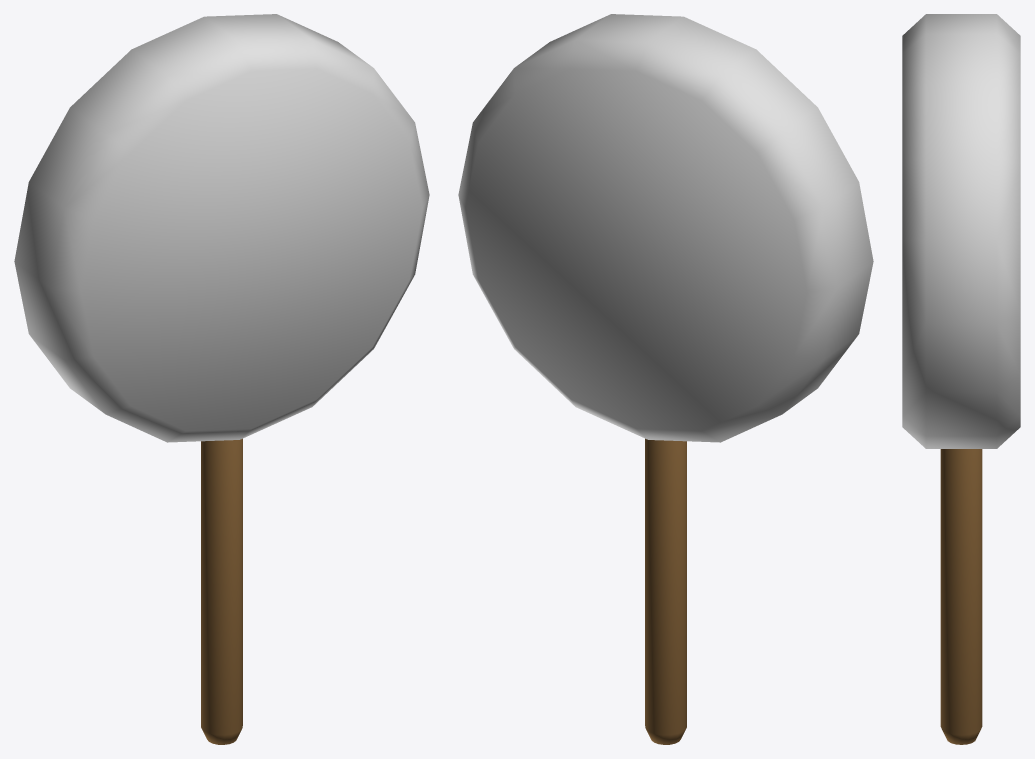
The model's file is Candy2.glb.
The picture shows the model from 3 angles, left to right: view 1: azimuth 30°, elevation 25°; view 2: azimuth 150°, elevation 25°; view 3: azimuth 270°, elevation 25°; orthographic projection.
Visible parts, largest first — view 1: Candy2; view 2: Candy2; view 3: Candy2.
Part boxes in pixels (bbox=[...]): Candy2: bbox=[14, 14, 429, 744]; Candy2: bbox=[458, 14, 873, 744]; Candy2: bbox=[902, 14, 1020, 744].
Size of the model in its own units: 0.2014 by 0.3595 by 0.0547.
